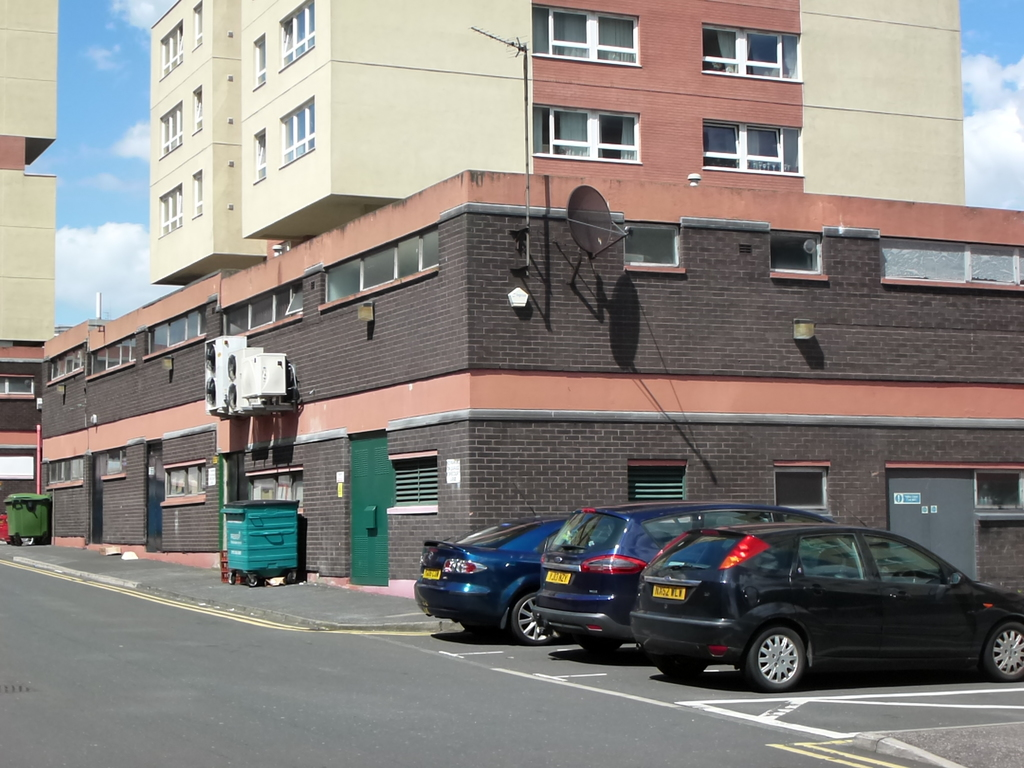Car: (620, 515, 1023, 687), (528, 497, 900, 655), (421, 525, 568, 639)
